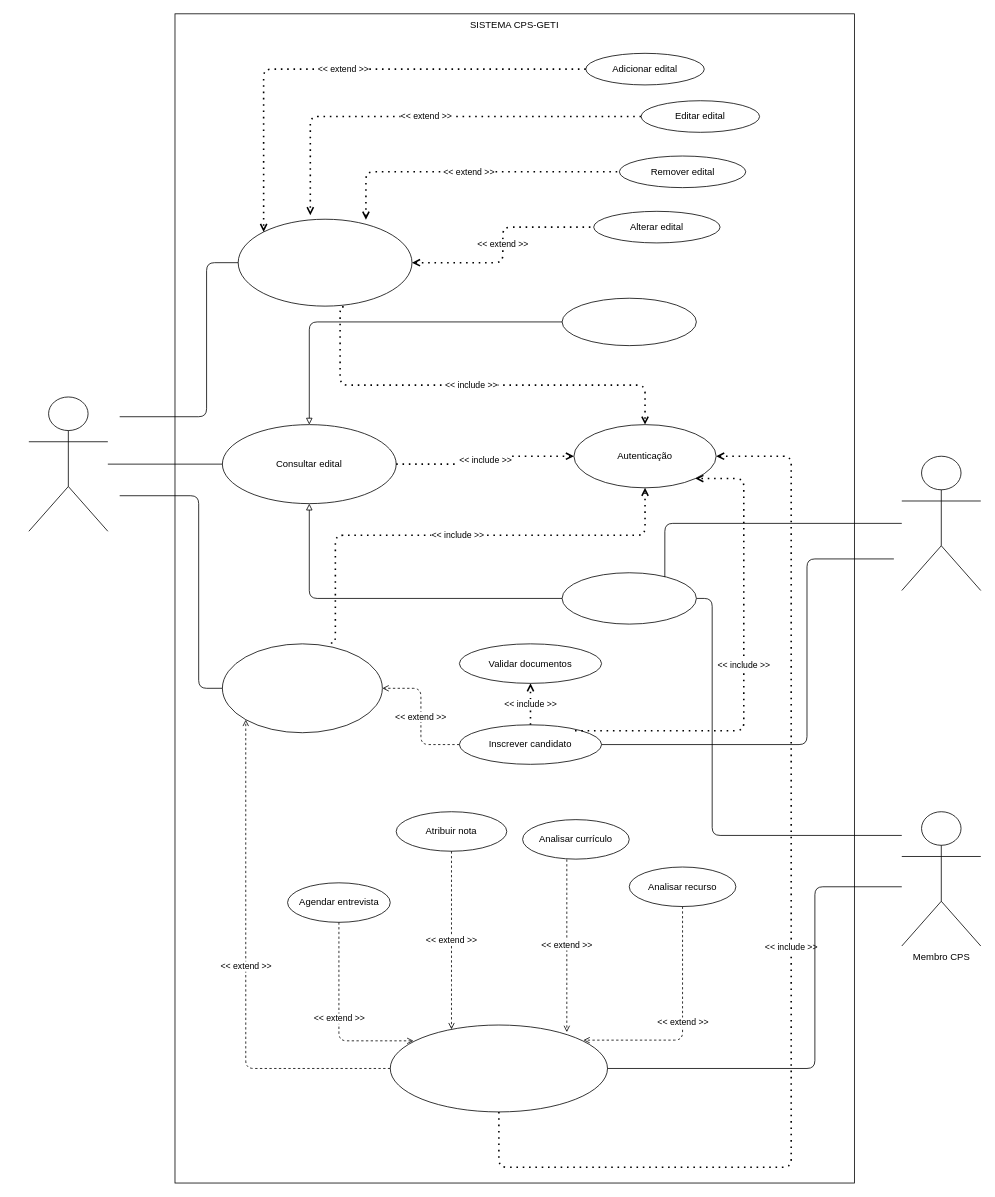
The diagram is 995 pixels wide and 1197 high, and some of its shapes have lost their labels. Each missing label, with the box of its shape:
Consultar editais anteriores: (561, 297, 696, 346)
Consultar edital corrente: (561, 572, 696, 624)
Controlar status do candidato: (389, 1024, 608, 1112)
Gerenciar candidatos: (222, 643, 382, 733)
Gerenciar editais: (237, 218, 412, 306)
Membro CRA: (901, 455, 981, 591)
Presidente e coordenador: (28, 396, 108, 531)
